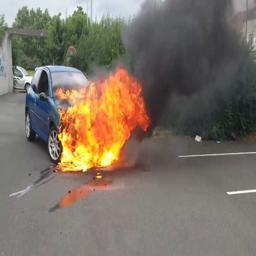fire: (55, 66, 152, 172)
